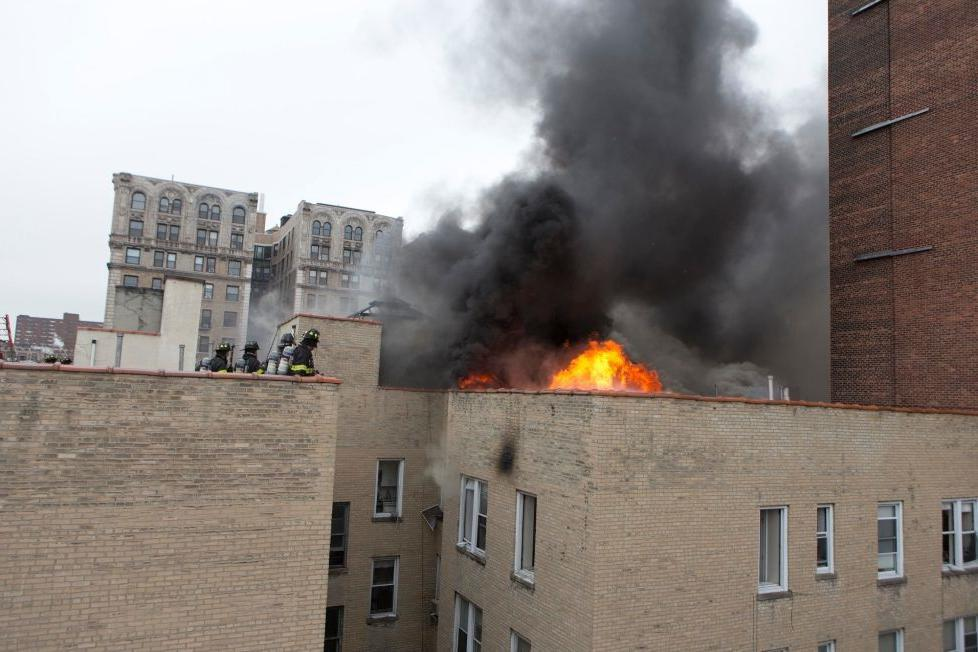Fire: (540, 331, 666, 401)
